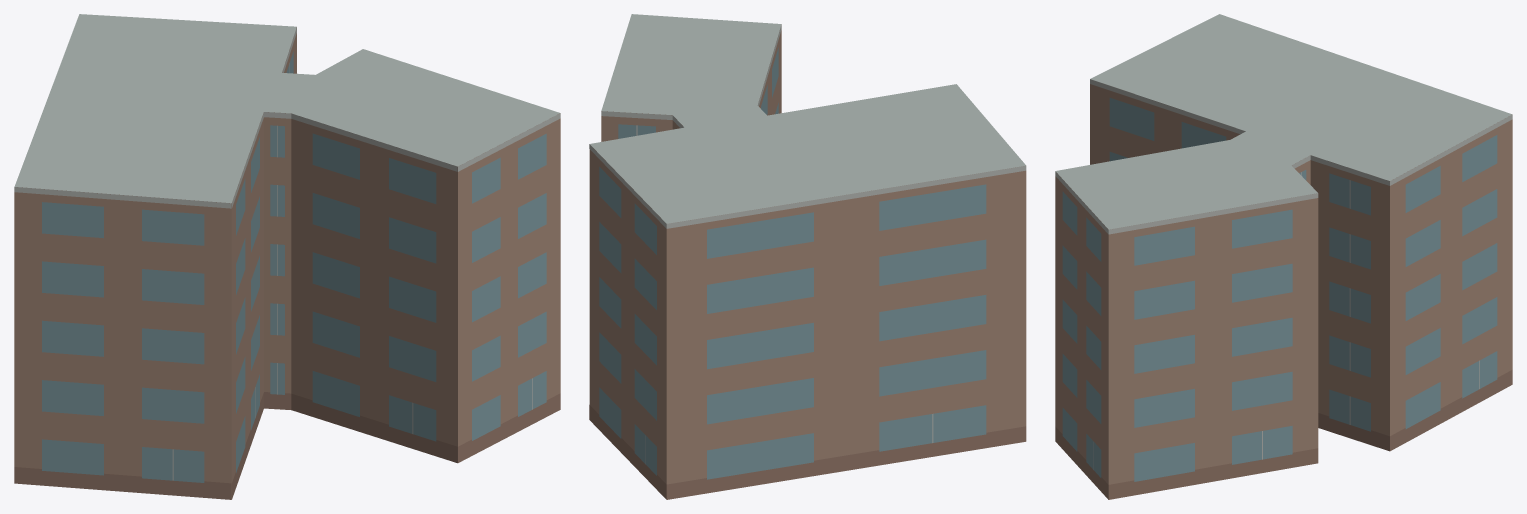
Rendered from survey-upis-32715106.glb.
The picture shows the model from 3 angles, left to right: view 1: azimuth 30°, elevation 25°; view 2: azimuth 150°, elevation 25°; view 3: azimuth 270°, elevation 25°; orthographic projection. The views are drawn at different scales.
Visible parts, largest first — view 1: survey-upis-32715106.tmp; view 2: survey-upis-32715106.tmp; view 3: survey-upis-32715106.tmp.
Part boxes in pixels (x1,y1,x2,y2): survey-upis-32715106.tmp: (14,14,560,499); survey-upis-32715106.tmp: (589,14,1026,499); survey-upis-32715106.tmp: (1055,14,1512,499).
Bounding box in the file's own units: 23.12 × 13.5 × 20.71.
